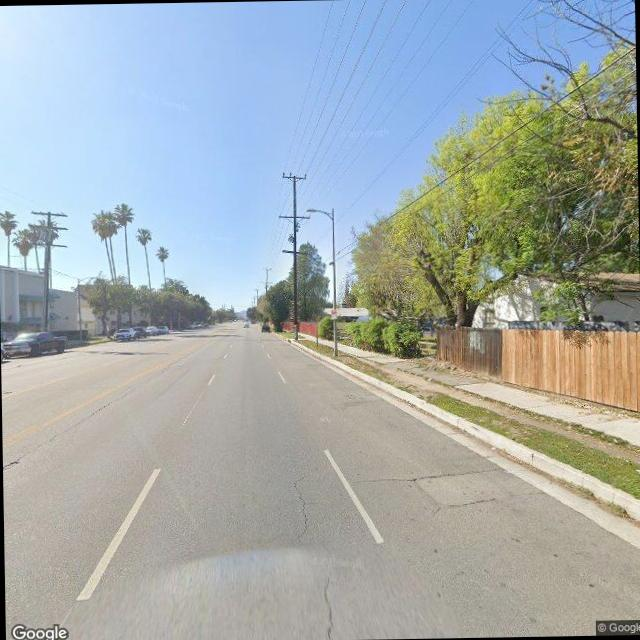crack: (10, 388, 144, 466), (350, 460, 530, 484), (279, 470, 309, 548), (317, 563, 333, 639)
